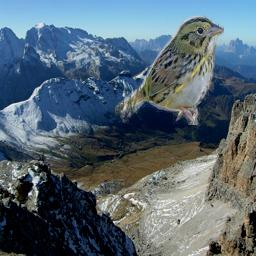Sparrow: (115, 15, 224, 125)
